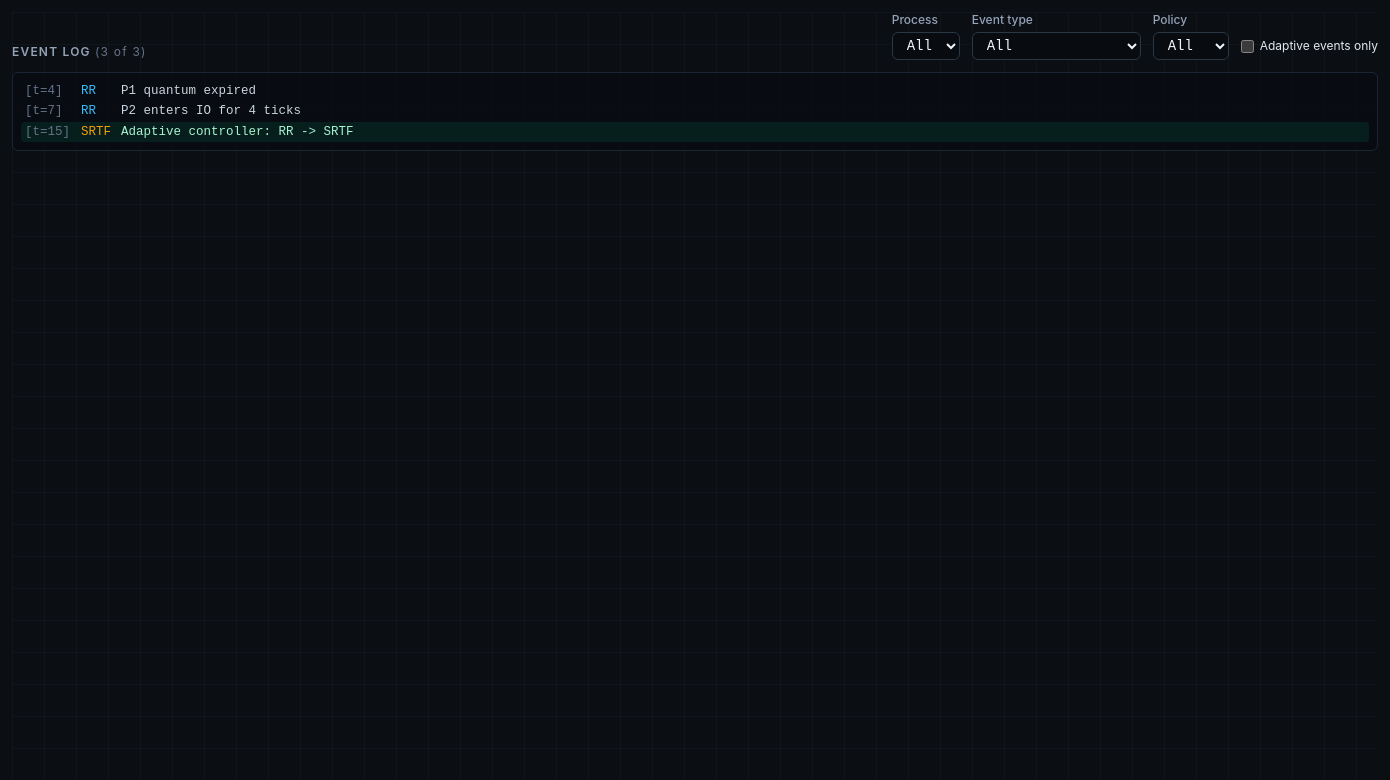
Test: EventLog › filters to adaptive-only events
Click the checkbox labelled "Adaptive events only" at x=1247, y=46, box [1241, 40, 1254, 52]
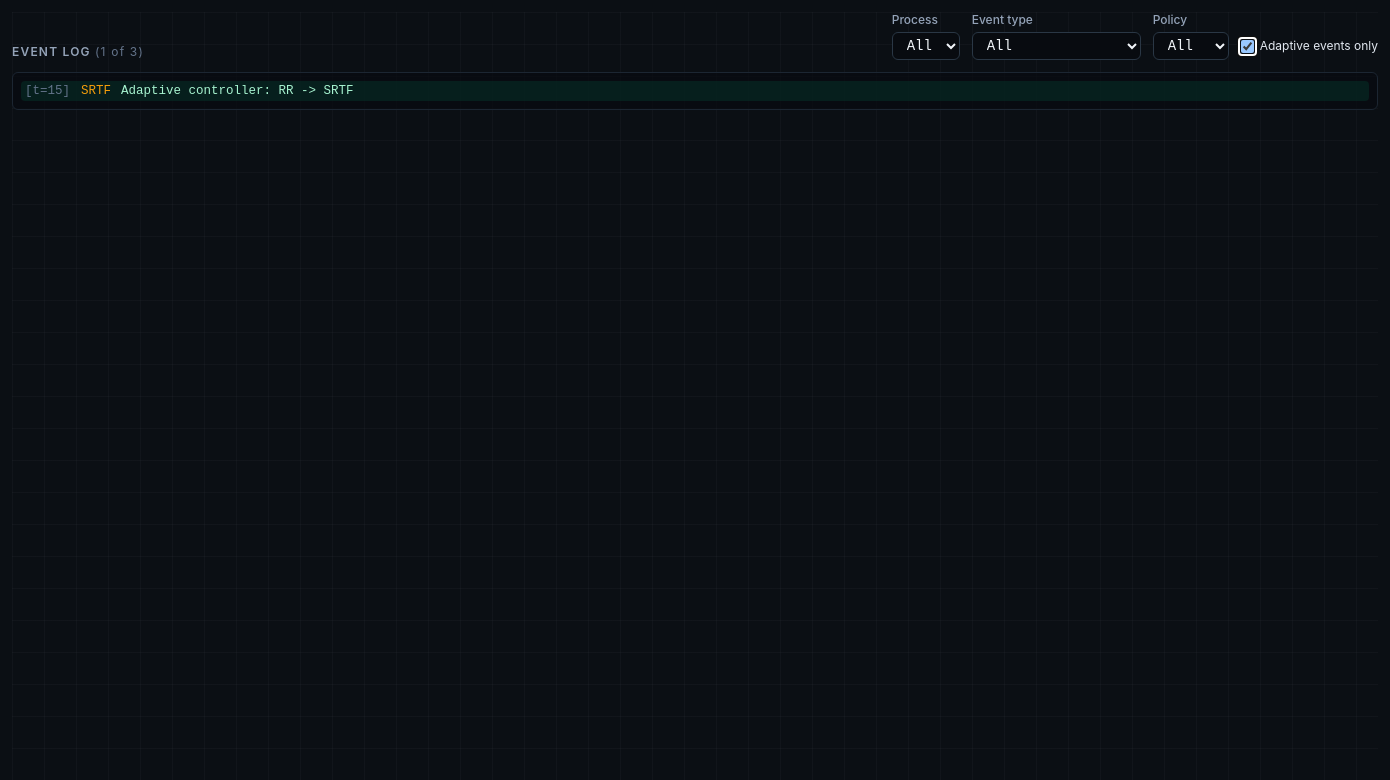
Expected: the text "(1 of 3)" is shown, [95, 44, 144, 59]
